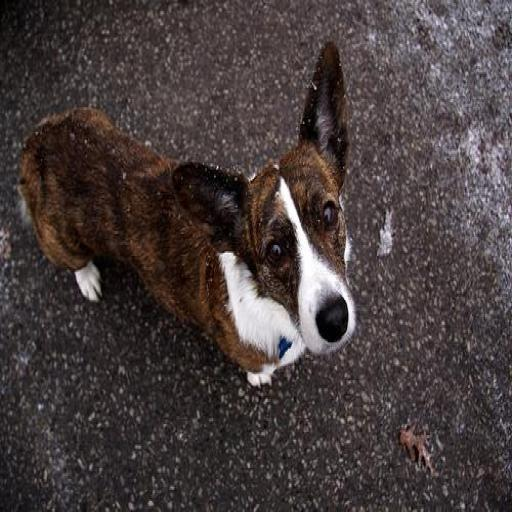dog_face: (184, 48, 363, 357)
